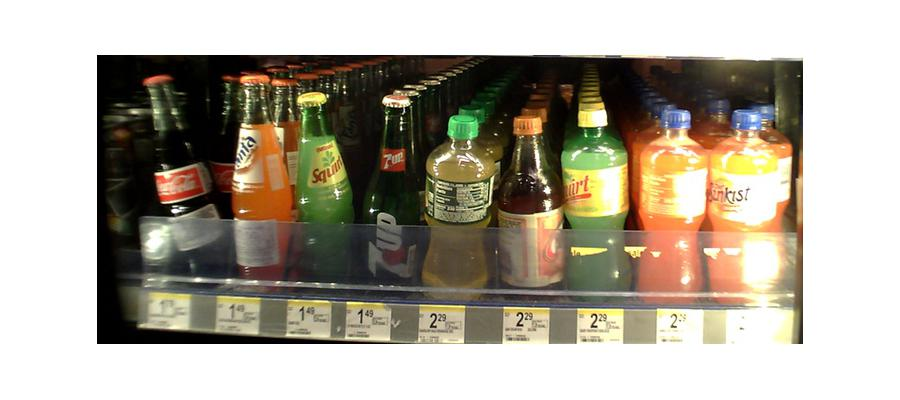bottle: (141, 74, 226, 284), (706, 106, 791, 303), (635, 105, 708, 296), (420, 111, 496, 293), (566, 93, 628, 296), (231, 75, 290, 287), (292, 88, 352, 285), (362, 94, 421, 290), (498, 115, 562, 294)
